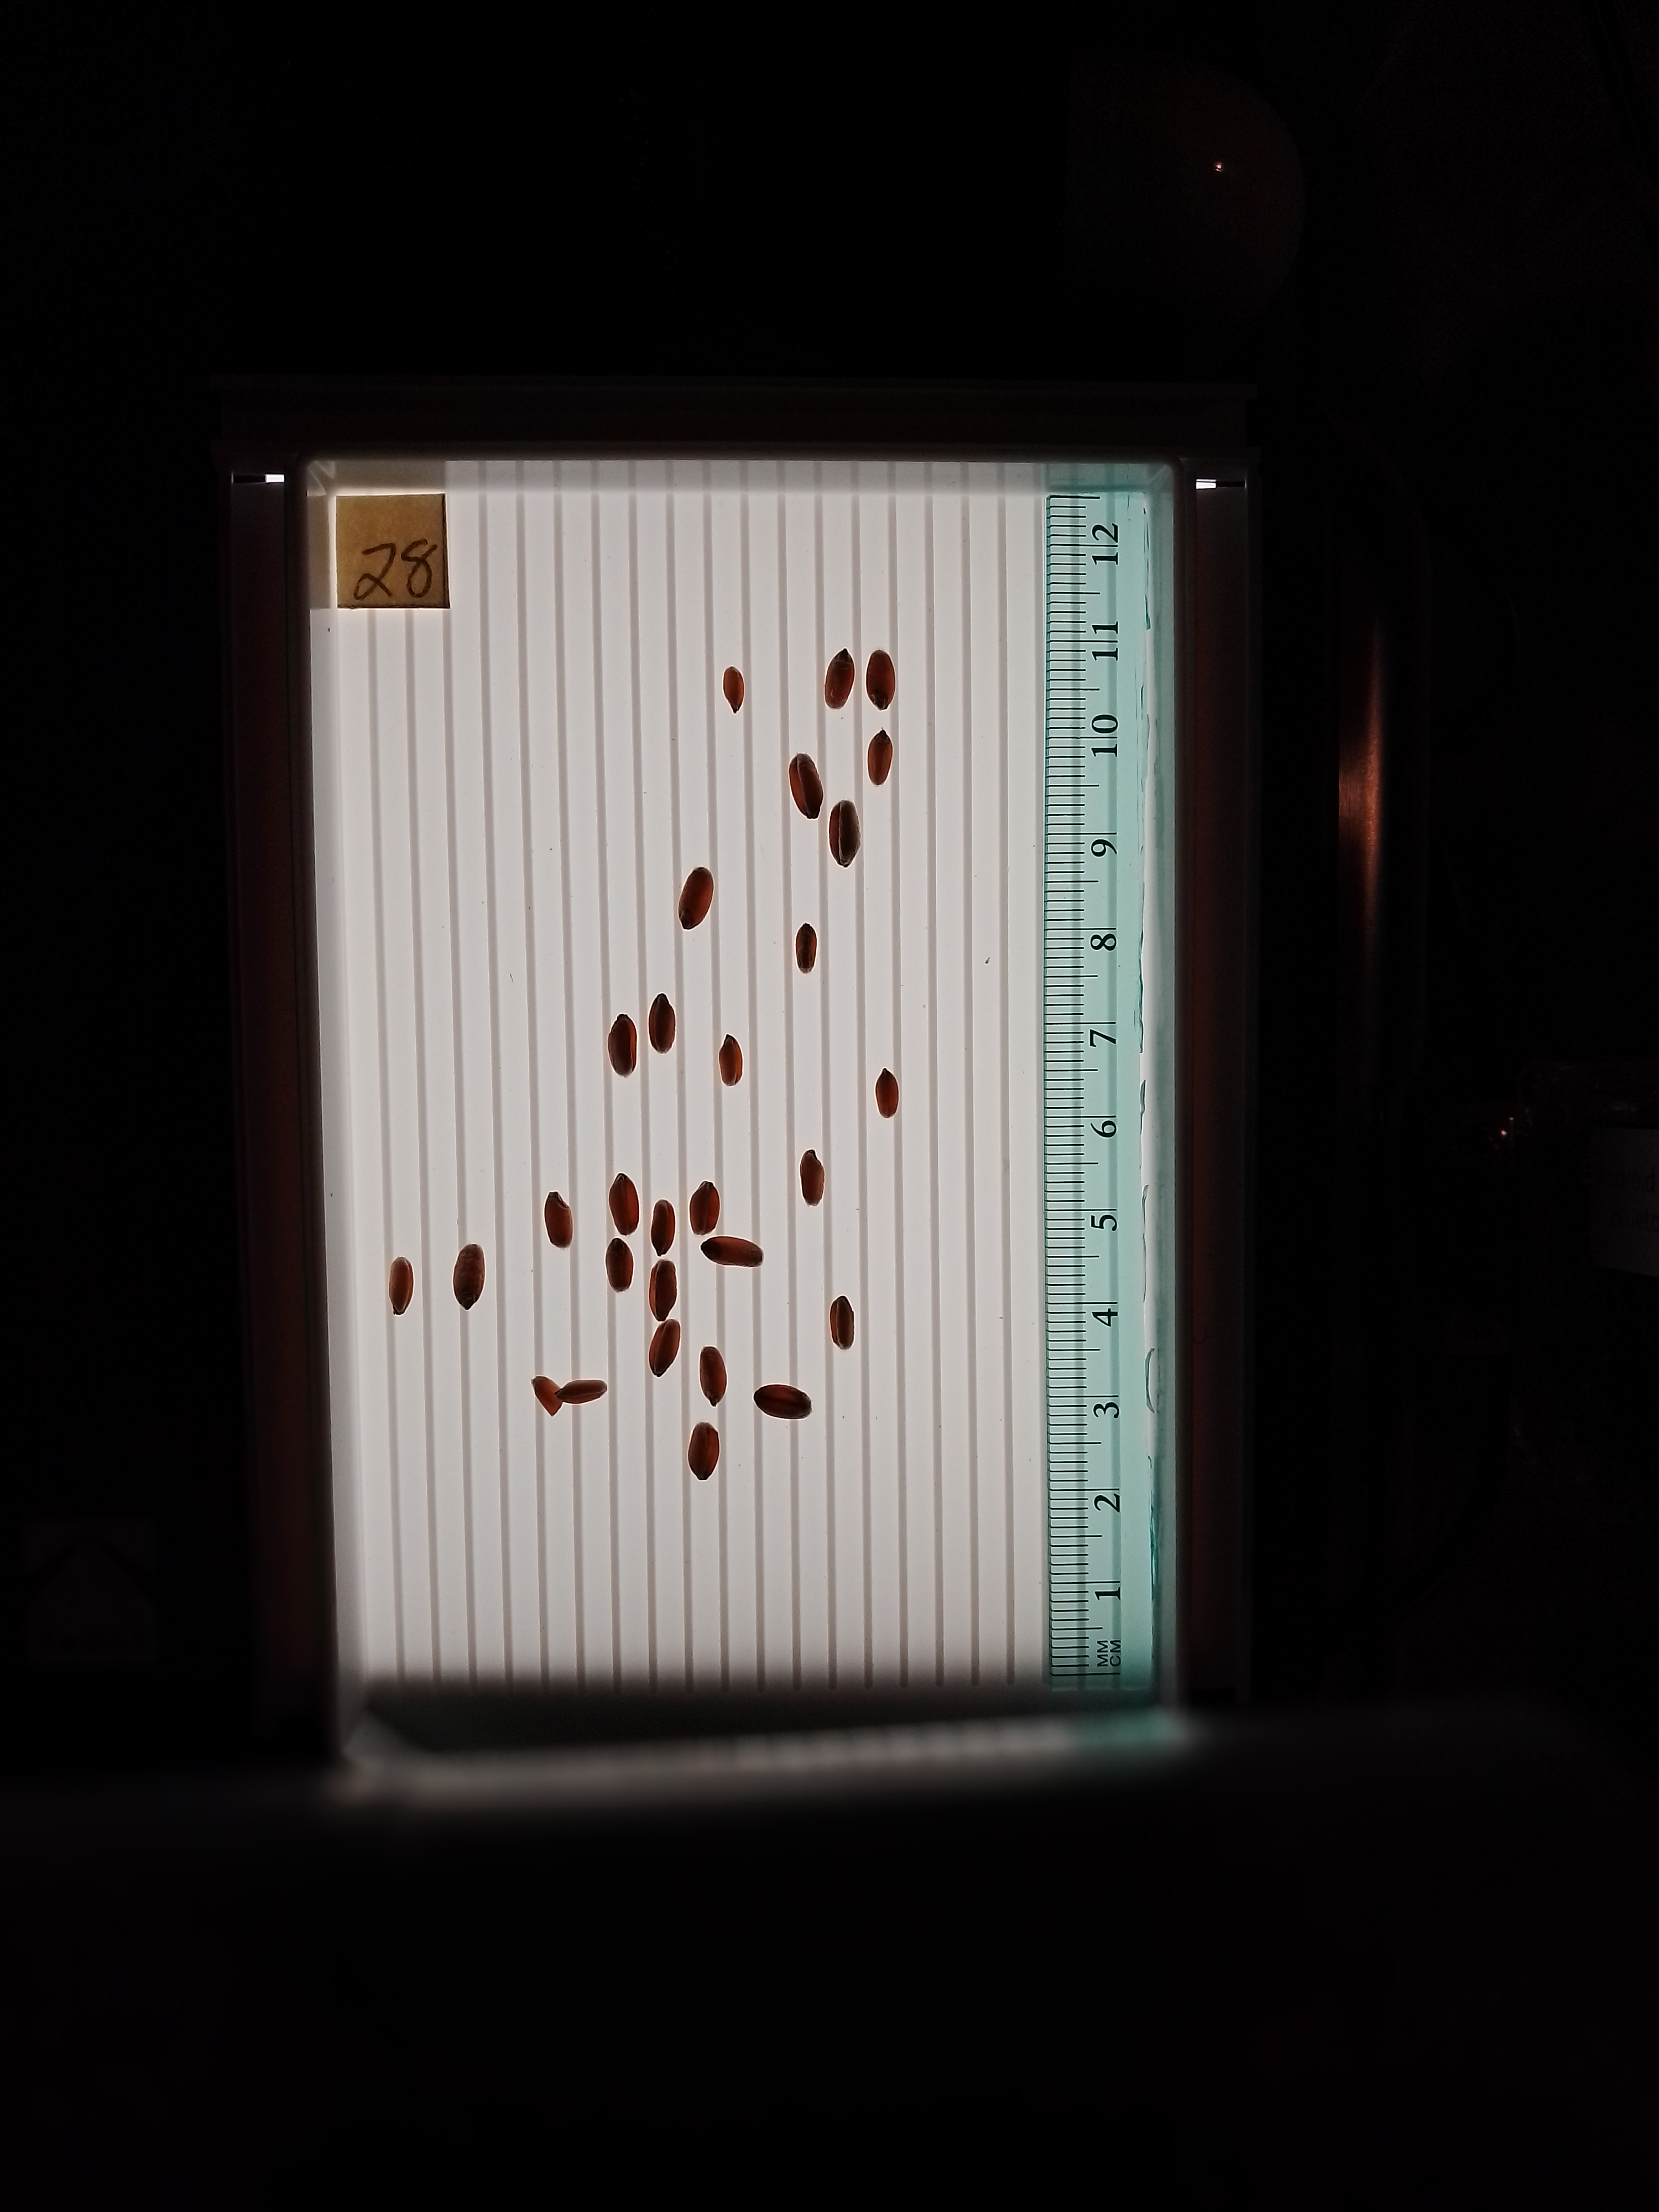seed mask: (789, 755, 825, 820), (678, 868, 715, 931), (453, 1244, 486, 1311), (828, 800, 862, 864), (753, 1384, 815, 1419), (608, 1173, 641, 1234), (649, 1317, 682, 1378), (606, 1014, 638, 1077), (698, 1237, 763, 1266), (688, 1423, 722, 1478), (648, 1261, 678, 1322), (826, 648, 854, 709), (544, 1191, 573, 1249), (700, 1347, 727, 1408), (866, 651, 895, 709), (689, 1182, 721, 1234), (605, 1237, 635, 1291), (867, 729, 895, 786), (649, 993, 675, 1052), (800, 1148, 827, 1204), (650, 1201, 678, 1253), (829, 1297, 854, 1349), (530, 1376, 564, 1415), (718, 1034, 743, 1086), (390, 1258, 411, 1314), (557, 1379, 605, 1404), (875, 1070, 900, 1117), (796, 925, 817, 972), (722, 668, 744, 708)
